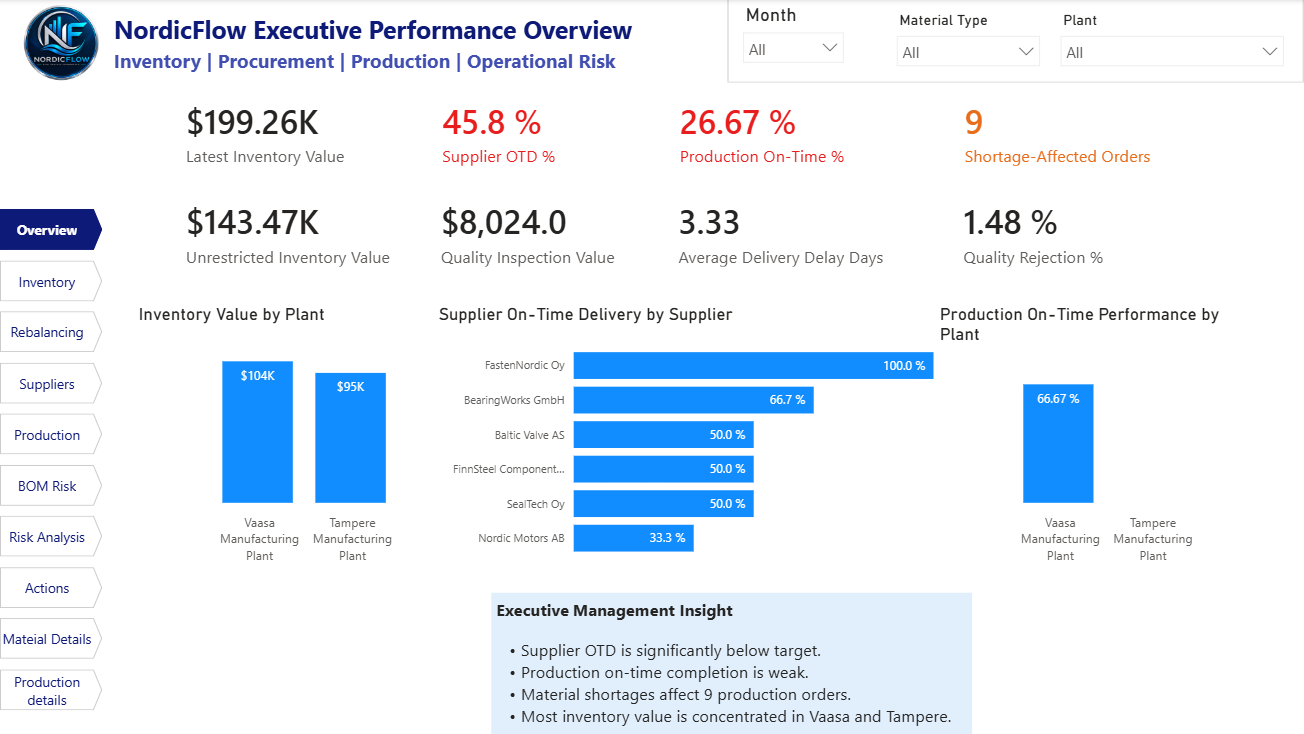

What the dashboard file says about the page in this screenshot:
{"tool":"powerbi","page":{"name":"Overview","canvas":[1280,720],"ordinal":0},"visuals":[{"type":"shape","box":[663.7,0,563.5,82.1],"z":0},{"type":"clusteredColumnChart","title":"Inventory Value by Plant","fields":{"Category":["Dim_plant.Plant_Name"],"Y":["_Measures.Latest Inventory Value"]},"box":[130.8,298.4,337.5,261.7],"z":1000},{"type":"clusteredBarChart","title":"Supplier On-Time Delivery by Supplier","fields":{"Y":["_Measures.Supplier OTD %"],"Category":["Dim_supplier.Supplier_Name"]},"box":[429.2,298.4,484.2,261.7],"z":2000},{"type":"clusteredColumnChart","title":"Production On-Time Performance by Plant","fields":{"Y":["_Measures.Production On-Time %"],"Category":["Dim_plant.Plant_Name"]},"box":[914.7,298.4,336.3,261.7],"z":3000},{"type":"slicer","fields":{"Values":["Dim_Date.Month"]},"box":[675.4,4.5,118.6,73.4],"z":4000},{"type":"slicer","fields":{"Values":["Dim_material.Material_Type"]},"box":[825.8,11.8,160.2,66],"z":5000},{"type":"cardVisual","fields":{"Data":["_Measures.Latest Inventory Value"]},"box":[153.1,83.2,221.3,94.2],"z":6000},{"type":"cardVisual","fields":{"Data":["_Measures.Supplier OTD %"]},"box":[403.3,82.9,203,94.2],"z":7000},{"type":"cardVisual","fields":{"Data":["_Measures.Production On-Time %"]},"box":[635.6,82.9,256.8,94.2],"z":8000},{"type":"cardVisual","fields":{"Data":["_Measures.Shortage-Affected Orders"]},"box":[914.4,82.9,256.8,94.2],"z":9000},{"type":"cardVisual","fields":{"Data":["_Measures.Unrestricted Inventory Value"]},"box":[152.6,180.7,266.6,95.4],"z":10000},{"type":"cardVisual","fields":{"Data":["_Measures.Quality Inspection Value"]},"box":[402.8,180.5,240.9,95.4],"z":11000},{"type":"cardVisual","fields":{"Data":["_Measures.Average Delivery Delay Days"]},"box":[635.1,180.5,261.7,95.4],"z":12000},{"type":"cardVisual","fields":{"Data":["_Measures.Quality Rejection %"]},"box":[913.9,180.5,256.8,95.4],"z":13000},{"type":"textbox","box":[106.3,8,557.6,48.9],"z":14000},{"type":"textbox","box":[106.3,42.3,519.7,39.1],"z":15000},{"type":"slicer","fields":{"Values":["Dim_plant.Plant_Name"]},"box":[986,11.8,238.5,64.8],"z":16000},{"type":"textbox","box":[480.6,580.8,470.8,139.4],"z":17000},{"type":"image","box":[0,0,119.8,88],"z":18000},{"type":"pageNavigator","box":[0,205.4,100.3,492.8],"z":19000},{"type":"actionButton","box":[1232.7,23.7,41.7,40.3],"z":20000}]}

Visuals, with their boxes in screenshot pixels (x1, y1, x2, y2), scaled from the page's 1280x720 canvas onto the 1304x734 screenshot:
shape: 676,0,1250,84
"Inventory Value by Plant" clusteredColumnChart: 133,304,477,571
"Supplier On-Time Delivery by Supplier" clusteredBarChart: 437,304,931,571
"Production On-Time Performance by Plant" clusteredColumnChart: 932,304,1274,571
slicer - Dim_Date.Month: 688,5,809,79
slicer - Dim_material.Material_Type: 841,12,1004,79
cardVisual - _Measures.Latest Inventory Value: 156,85,381,181
cardVisual - _Measures.Supplier OTD %: 411,85,618,181
cardVisual - _Measures.Production On-Time %: 648,85,909,181
cardVisual - _Measures.Shortage-Affected Orders: 932,85,1193,181
cardVisual - _Measures.Unrestricted Inventory Value: 155,184,427,281
cardVisual - _Measures.Quality Inspection Value: 410,184,656,281
cardVisual - _Measures.Average Delivery Delay Days: 647,184,914,281
cardVisual - _Measures.Quality Rejection %: 931,184,1193,281
textbox: 108,8,676,58
textbox: 108,43,638,83
slicer - Dim_plant.Plant_Name: 1004,12,1247,78
textbox: 490,592,969,733
image: 0,0,122,90
pageNavigator: 0,209,102,712
actionButton: 1256,24,1298,65
